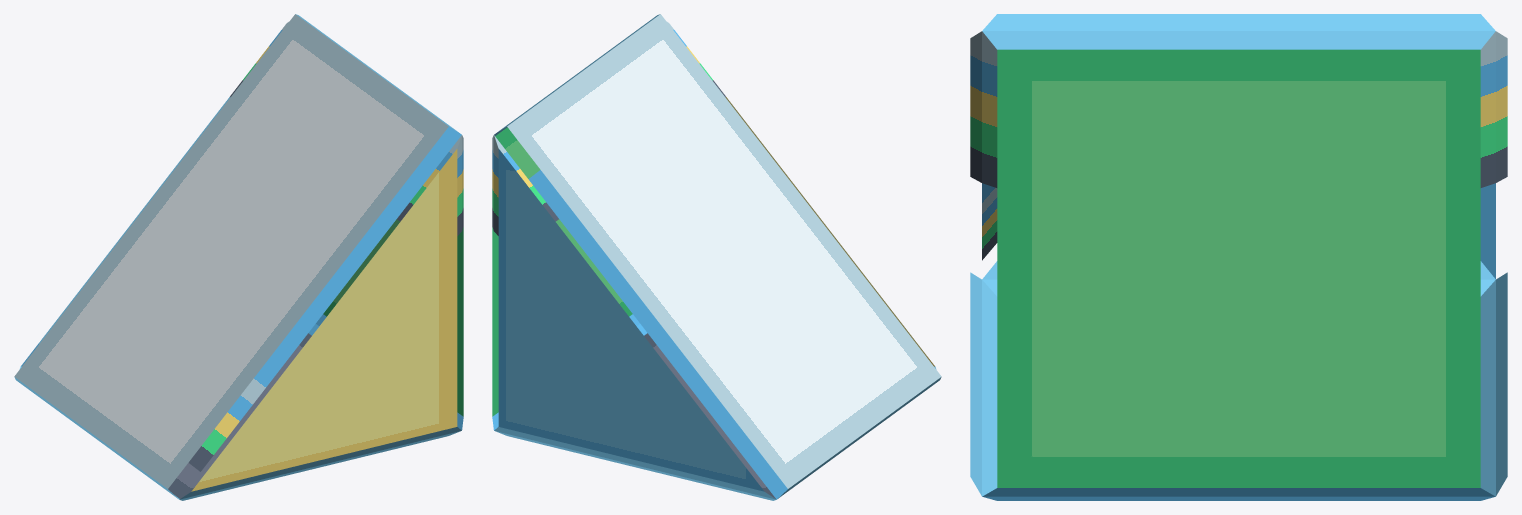
The model's file is pyramid_buildingblock_village.obj.
The picture shows the model from 3 angles, left to right: view 1: azimuth 30°, elevation 25°; view 2: azimuth 150°, elevation 25°; view 3: azimuth 270°, elevation 25°; orthographic projection. The views are drawn at different scales.
Visible parts, largest first — view 1: cube; view 2: cube; view 3: cube.
Boxes of the visible parts, x1,y1,x2,y2 form: cube: [14, 14, 463, 500]; cube: [492, 14, 941, 500]; cube: [970, 14, 1507, 500].
Size of the model in its own units: 1 by 1 by 1.
